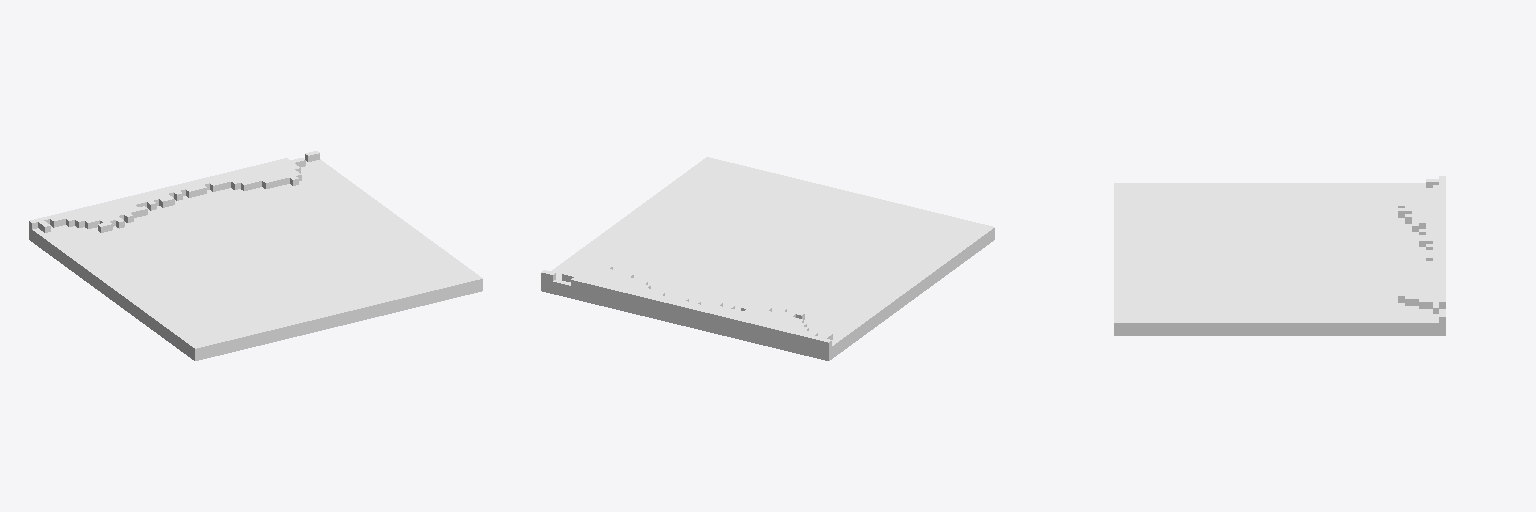
The model's file is grass-path-edge.obj.
3 renders of one model, left to right at view 1: azimuth 30°, elevation 25°; view 2: azimuth 150°, elevation 25°; view 3: azimuth 270°, elevation 25°, orthographic.
Parts seen in each view (by area): view 1: object 1; view 2: object 1; view 3: object 1.
Boxes of the visible parts, x1,y1,x2,y2 form: object 1: [29, 151, 482, 360]; object 1: [541, 157, 994, 360]; object 1: [1114, 176, 1445, 335].
Bounding box in the file's own units: 4.8 × 0.3 × 4.8.